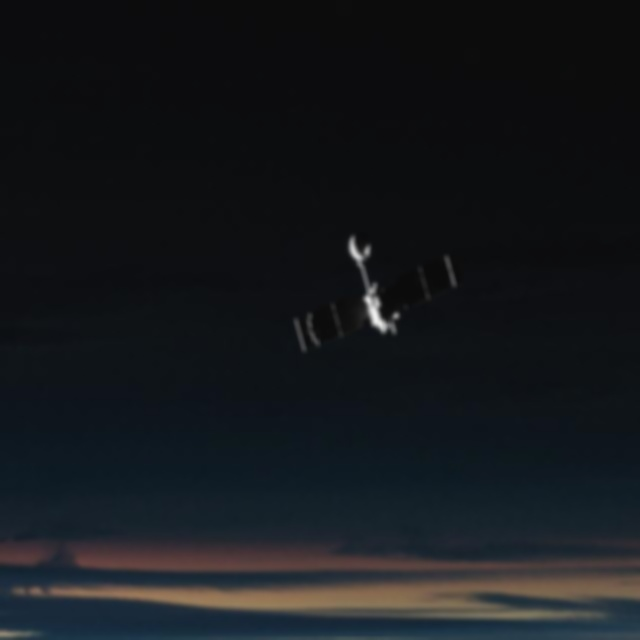satellite: (273, 226, 483, 362)
